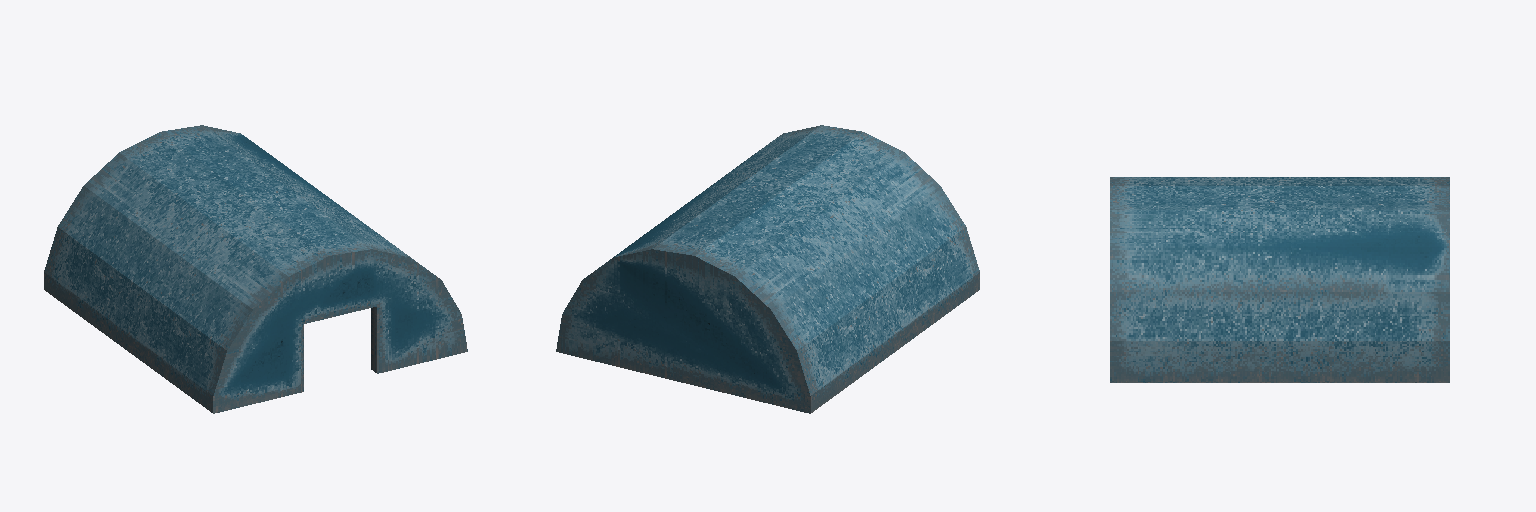
3 renders of one model, left to right at view 1: azimuth 30°, elevation 25°; view 2: azimuth 150°, elevation 25°; view 3: azimuth 270°, elevation 25°, orthographic.
Visible parts, largest first — view 1: Cylinder001; view 2: Cylinder001; view 3: Cylinder001.
Boxes of the visible parts, x1=… form: Cylinder001: x1=44, y1=125, x2=467, y2=413; Cylinder001: x1=556, y1=125, x2=979, y2=413; Cylinder001: x1=1110, y1=177, x2=1449, y2=382.
Bounding box in the file's own units: 78.19 × 38.08 × 90.19.
1 materials, 1 textured.